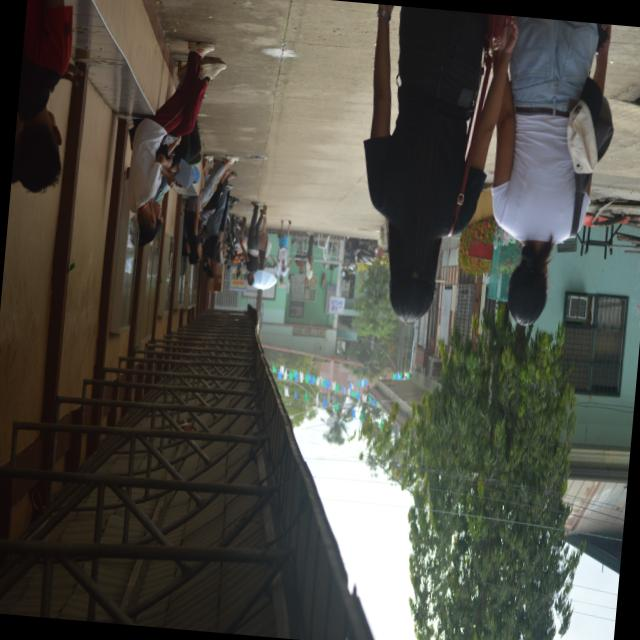person: (365, 5, 486, 322), (492, 19, 598, 324), (126, 41, 225, 241), (15, 0, 81, 191), (241, 201, 266, 284), (278, 220, 291, 268), (305, 231, 314, 286)
